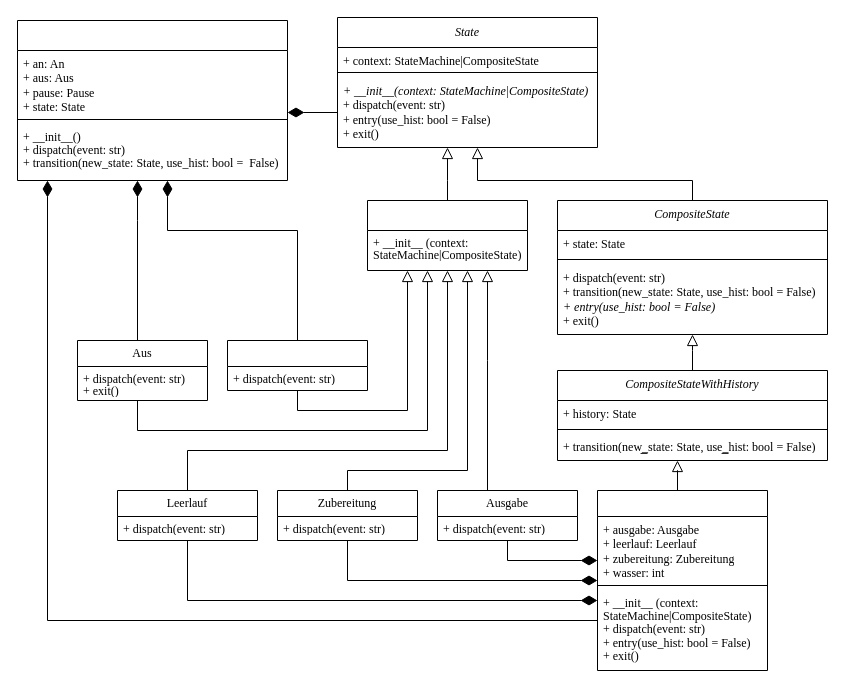
The diagram is 845 pixels wide and 691 high, and some of its shapes have lost their labels. Each missing label, with the box of its shape:
An: (596, 490, 768, 670)
Pause: (226, 340, 368, 390)
SimpleState: (366, 200, 528, 270)
StateMachine: (16, 20, 288, 180)
